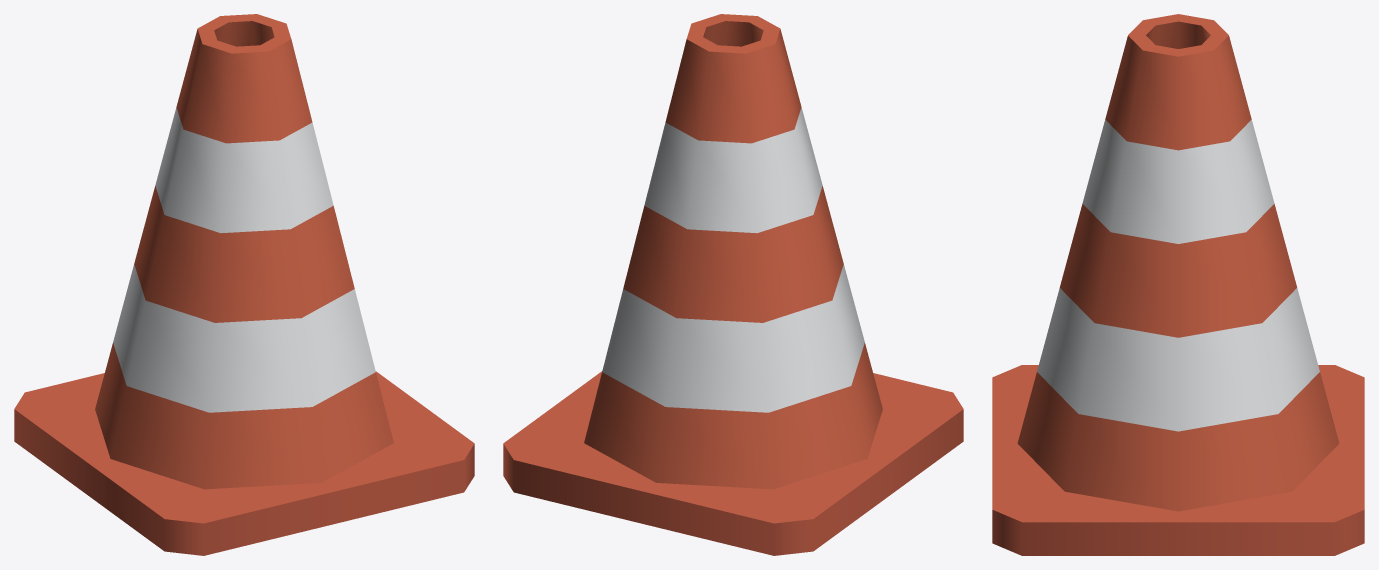
Rendered from Traffic_Cone_005.glb.
3 views of the same model, side by side, from view 1: azimuth 30°, elevation 25°; view 2: azimuth 150°, elevation 25°; view 3: azimuth 270°, elevation 25° (orthographic). The views are drawn at different scales.
Parts seen in each view (by area): view 1: Traffic Cone.005; view 2: Traffic Cone.005; view 3: Traffic Cone.005.
Part boxes in pixels (x1,y1,x2,y2): Traffic Cone.005: (14, 14, 474, 555); Traffic Cone.005: (503, 14, 963, 555); Traffic Cone.005: (992, 14, 1364, 555).
Size of the model in its own units: 2 by 2.62 by 2.
Materials: 1 (1 with a texture image).
